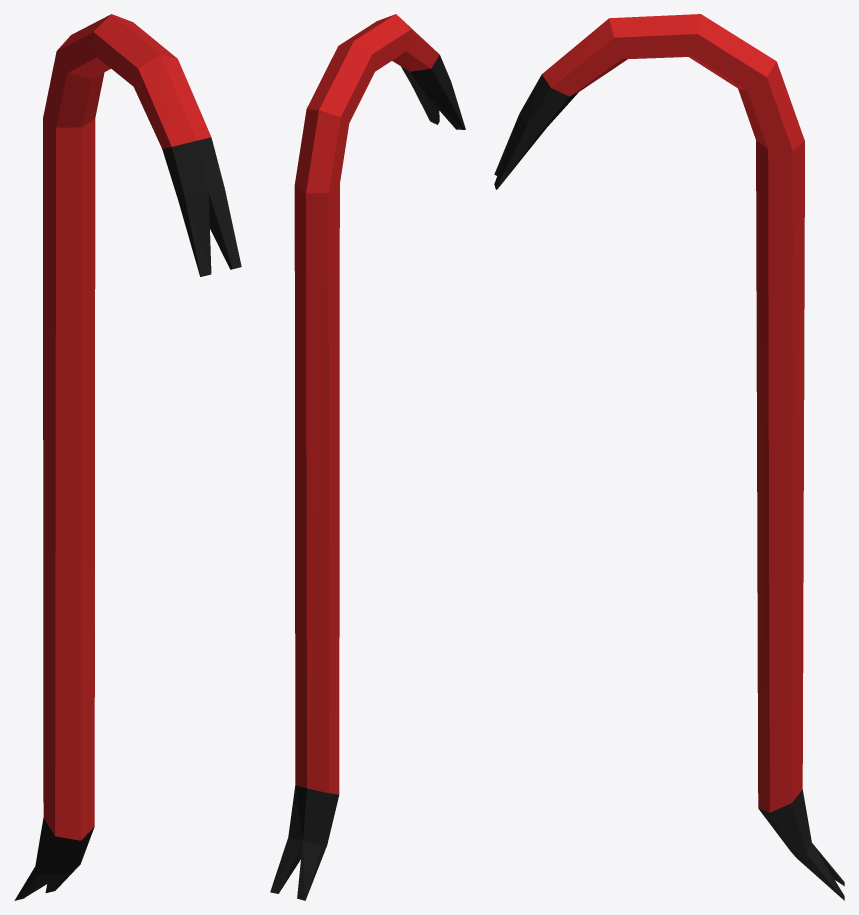
File: Crowbar.obj
The picture shows the model from 3 angles, left to right: view 1: azimuth 30°, elevation 25°; view 2: azimuth 150°, elevation 25°; view 3: azimuth 270°, elevation 25°; orthographic projection. The views are drawn at different scales.
Parts seen in each view (by area): view 1: Crowbar_Circle.007; view 2: Crowbar_Circle.007; view 3: Crowbar_Circle.007.
Boxes of the visible parts, left/top/right/bottom form: Crowbar_Circle.007: left=14, top=14, right=241, bottom=900; Crowbar_Circle.007: left=270, top=14, right=465, bottom=900; Crowbar_Circle.007: left=494, top=14, right=844, bottom=900.
Bounding box in the file's own units: 0.0306 × 0.6684 × 0.2419.
